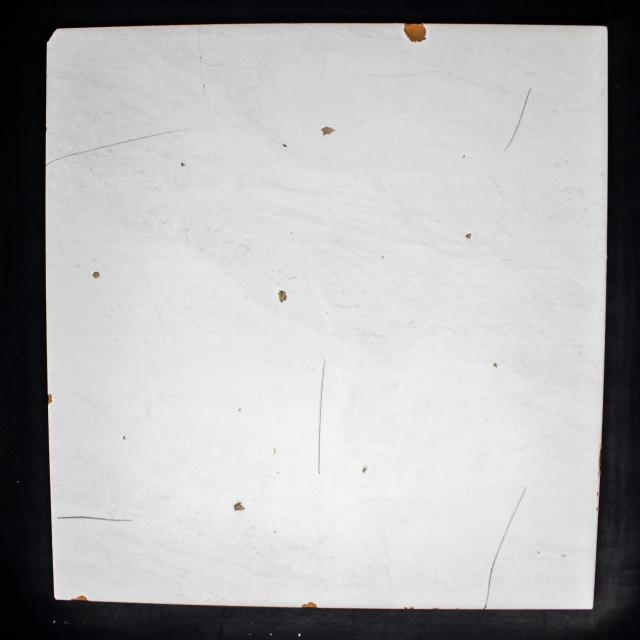edge-chipping: (403, 23, 427, 44), (46, 28, 58, 43), (598, 444, 602, 477), (300, 601, 318, 608), (76, 594, 88, 602), (48, 393, 53, 405), (70, 597, 76, 601)
hole: (321, 125, 336, 136), (277, 289, 288, 304), (233, 502, 246, 512), (92, 270, 100, 279), (465, 232, 472, 240), (362, 467, 368, 473), (180, 162, 186, 167), (493, 362, 498, 368), (237, 407, 242, 412), (282, 144, 288, 148), (462, 154, 466, 159), (381, 255, 385, 259), (122, 436, 126, 440)
line: (318, 357, 326, 475), (508, 485, 527, 526), (132, 128, 190, 140), (45, 151, 86, 166), (502, 120, 521, 152), (57, 515, 133, 523), (493, 527, 508, 564), (86, 140, 132, 152), (483, 565, 493, 610), (520, 86, 533, 118), (202, 78, 209, 102), (230, 122, 248, 131)
